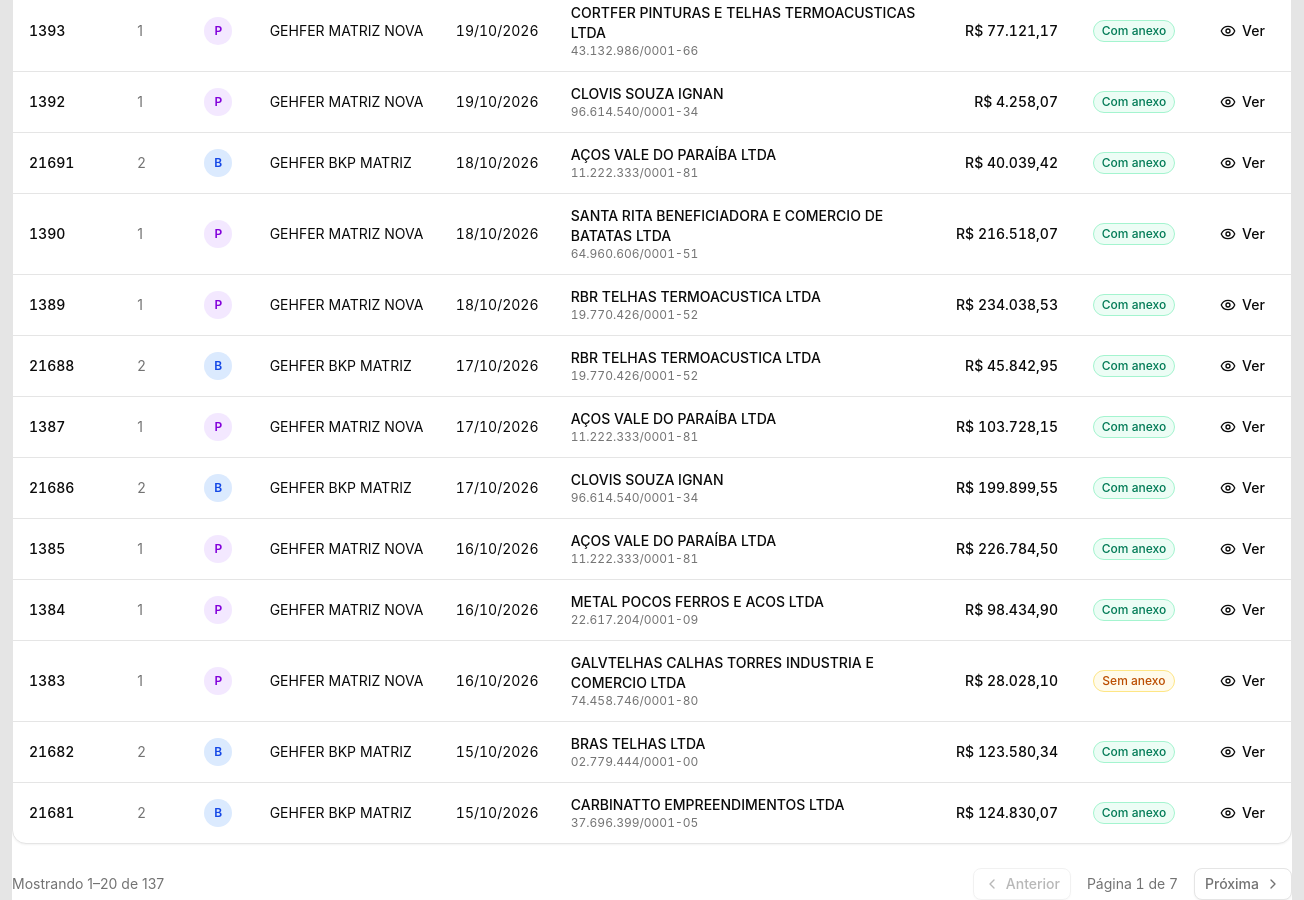
Scenario: NotasFiscaisPage › navega entre as páginas
(page scrolled)
Expected: the text "Mostrando 1–20 de 137" is shown, [12,874,164,894]
Click the button "Próxima" at (1243, 884), box [1194,868,1292,899]
(page scrolled)
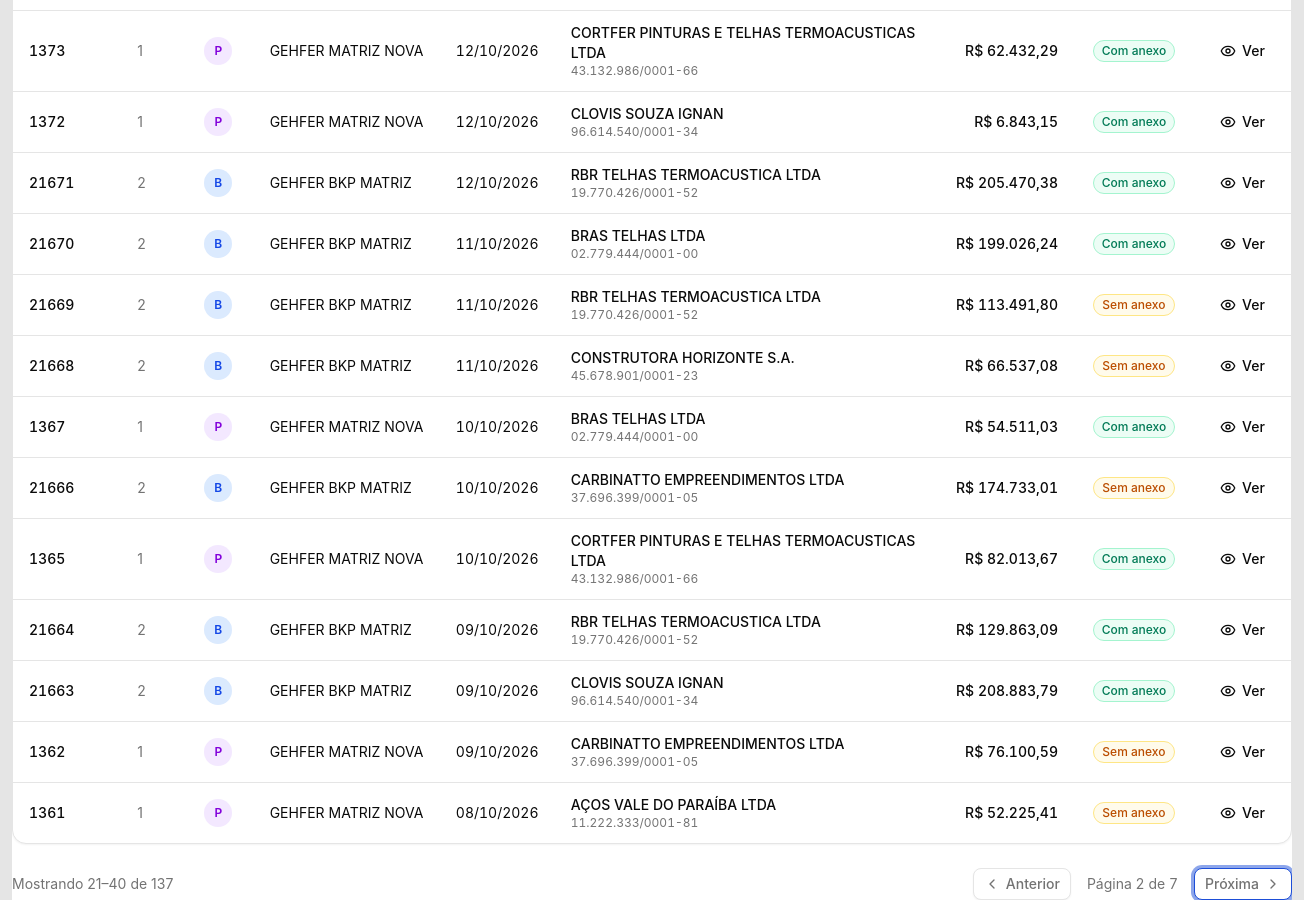
Now the text "Mostrando 21–40 de 137" is shown, box [12,874,173,894]
Now the text "Página 2 de 7" is shown, box [1079,874,1186,894]
